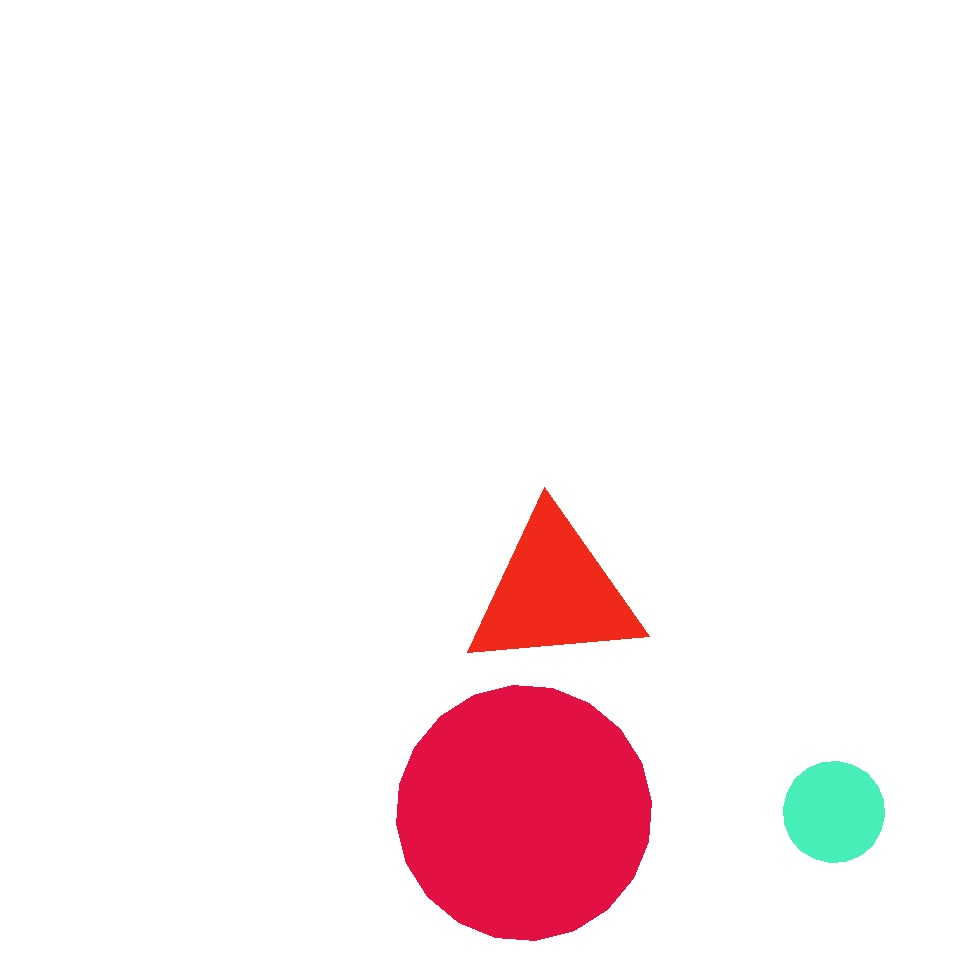circle: (463, 510, 645, 674)
square: (264, 569, 404, 710)
triangle: (396, 686, 652, 940), (441, 637, 595, 791), (612, 532, 720, 640), (784, 762, 884, 862)
